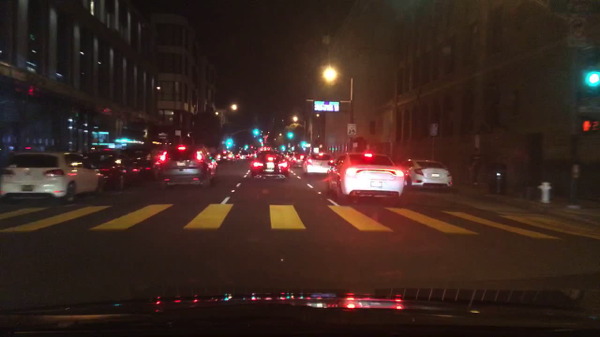car: (0, 149, 104, 206), (325, 150, 402, 203), (79, 147, 152, 190), (162, 143, 217, 190), (397, 160, 453, 190), (125, 147, 166, 178), (249, 151, 288, 180), (302, 152, 334, 174), (290, 154, 304, 168), (221, 150, 235, 162), (207, 153, 222, 162), (286, 152, 297, 162), (280, 150, 288, 158), (242, 152, 250, 159), (234, 153, 241, 160), (250, 152, 256, 157)
person: (469, 148, 482, 186)
traffic light: (582, 71, 599, 90), (582, 119, 597, 131), (225, 139, 233, 148), (285, 132, 294, 140), (253, 129, 259, 136), (242, 145, 251, 149), (280, 145, 286, 150), (301, 141, 306, 146), (258, 138, 262, 144)
traffic sign: (550, 1, 597, 12), (568, 18, 584, 47), (347, 124, 356, 135), (429, 124, 437, 135), (175, 131, 183, 136)
